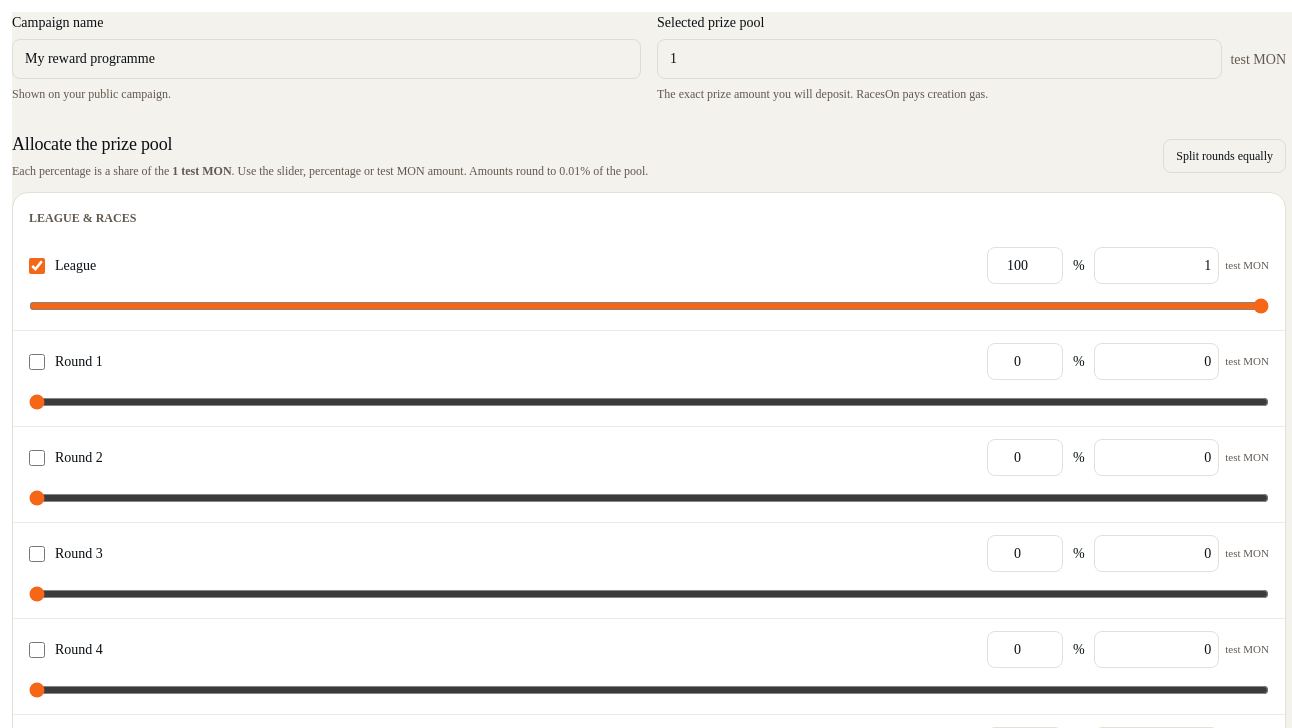
Test: edits the league share without losing round rules or the exact budget
The width and height of the screenshot is (1292, 728).
Replace the text in the number field named "League %" with "50": (1025, 266) x1=987 y1=247 x2=1063 y2=284
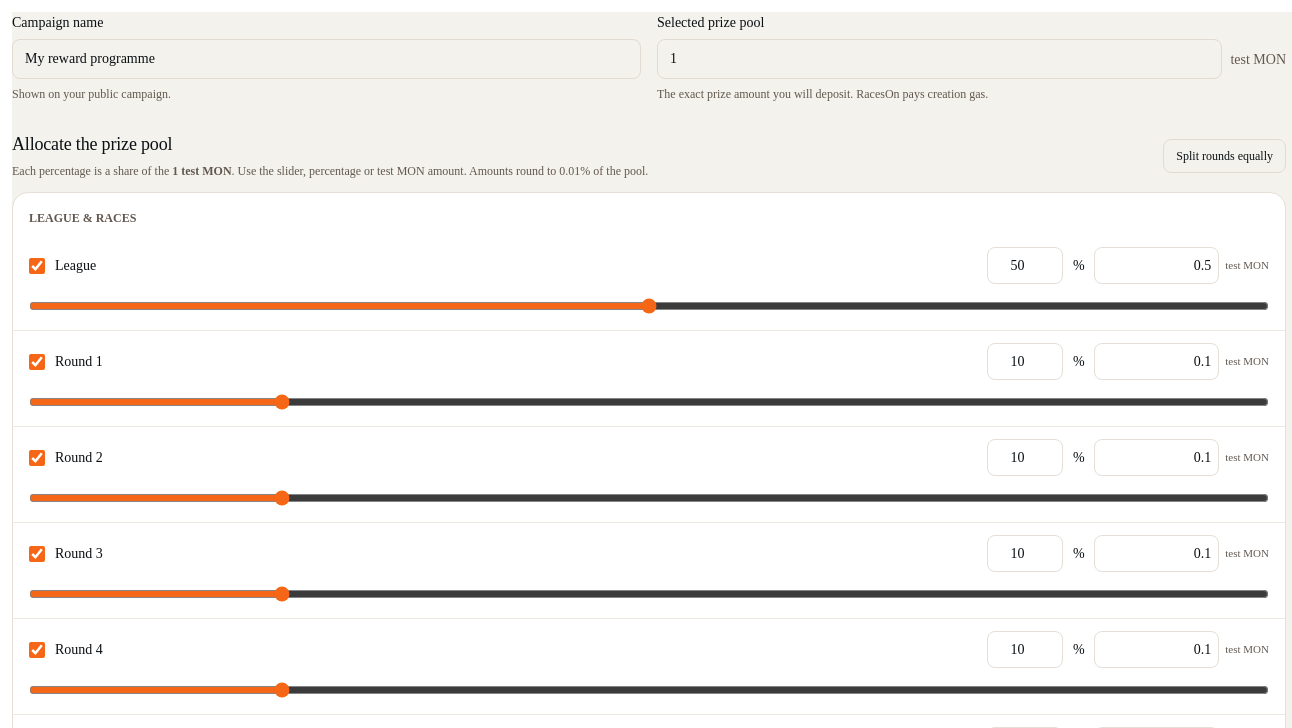
Replace the text in the number field named "League %" with "100": (1025, 266) x1=987 y1=247 x2=1063 y2=284
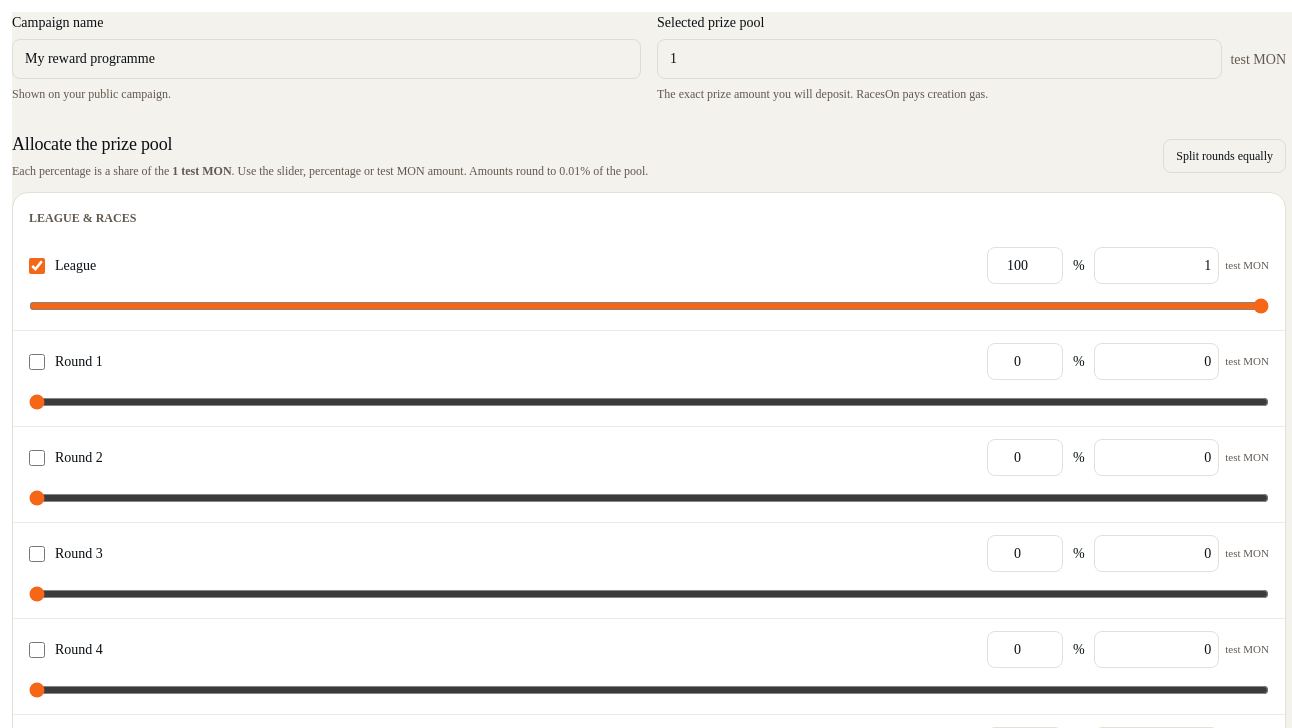
expect the field named "Total budget · test MON" holds "1": met, box x1=657 y1=39 x2=1222 y2=79
expect the number field named "Round 1 %" holds "0": met, box x1=987 y1=343 x2=1063 y2=380
